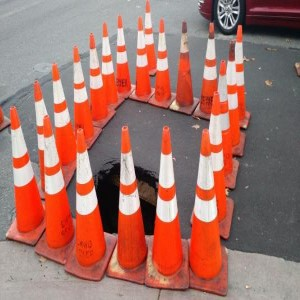traffic cone: (106, 125, 160, 285), (64, 126, 116, 282), (183, 128, 229, 297), (144, 124, 189, 290), (34, 113, 82, 265), (190, 91, 235, 239), (6, 105, 51, 247), (29, 81, 77, 199), (203, 59, 240, 189), (43, 65, 83, 170), (62, 45, 102, 150), (83, 33, 117, 129), (218, 39, 245, 158), (225, 24, 252, 130), (169, 21, 199, 115), (192, 22, 220, 120), (94, 22, 125, 110), (147, 18, 177, 108), (127, 16, 155, 102), (108, 16, 136, 99), (135, 1, 163, 75)
